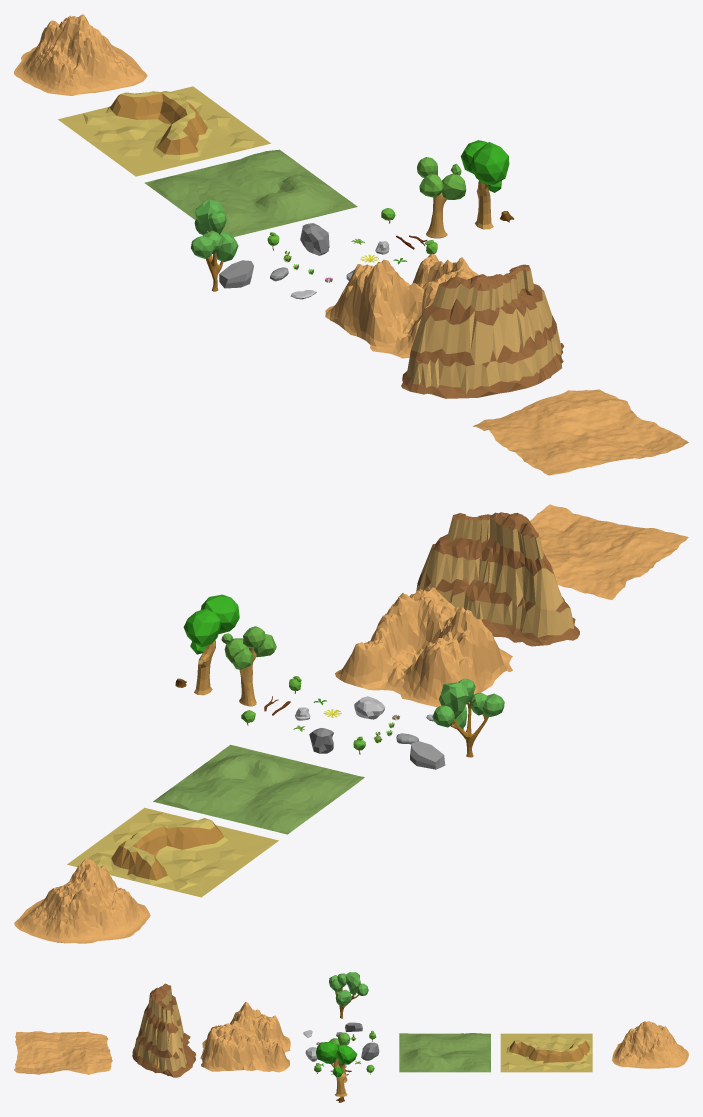
File: terrain.fbx
3 renders of one model, top to bottom at view 1: azimuth 30°, elevation 25°; view 2: azimuth 150°, elevation 25°; view 3: azimuth 270°, elevation 25°, orthographic. The views are drawn at different scales.
Parts seen in each view (by area): view 1: Mounting_3, Terrain_1, Environment_1, Terrain_2, Mounting_2, Mounting_1, Tree_1, Tree_3, Leaves_5, Rock_3, Rock_6; view 2: Mounting_3, Mounting_2, Terrain_2, Terrain_1, Environment_1, Mounting_1, Tree_1, Tree_3, Leaves_5, Rock_3; view 3: Mounting_2, Environment_1, Mounting_3, Terrain_1, Terrain_2, Mounting_1, Tree_1, Tree_3, Leaves_5, Rock_6.
Part boxes in pixels (<box>): Mounting_3: <box>401,264,563,398</box>; Terrain_1: <box>58,86,270,176</box>; Environment_1: <box>473,389,688,475</box>; Terrain_2: <box>144,149,357,236</box>; Mounting_2: <box>325,253,478,358</box>; Mounting_1: <box>14,14,147,95</box>; Tree_1: <box>460,140,509,229</box>; Tree_3: <box>191,199,238,291</box>; Leaves_5: <box>417,157,466,238</box>; Rock_3: <box>219,260,253,288</box>; Rock_6: <box>300,223,329,255</box>; Mounting_3: <box>416,512,579,646</box>; Mounting_2: <box>335,586,512,707</box>; Terrain_2: <box>153,744,364,834</box>; Terrain_1: <box>67,807,278,897</box>; Environment_1: <box>530,504,688,599</box>; Mounting_1: <box>14,859,150,943</box>; Tree_1: <box>183,594,239,695</box>; Tree_3: <box>432,678,504,757</box>; Leaves_5: <box>221,626,276,706</box>; Rock_3: <box>410,741,445,769</box>; Mounting_2: <box>200,1002,290,1072</box>; Environment_1: <box>14,1031,112,1074</box>; Mounting_3: <box>132,983,195,1077</box>; Terrain_1: <box>500,1033,592,1072</box>; Terrain_2: <box>399,1033,490,1072</box>; Mounting_1: <box>612,1021,688,1068</box>; Tree_1: <box>316,1042,357,1096</box>; Tree_3: <box>329,972,368,1018</box>; Leaves_5: <box>329,1032,350,1083</box>; Rock_6: <box>361,1042,379,1060</box>.
Bounding box in the file's own units: 4800 × 1582 × 14693.
